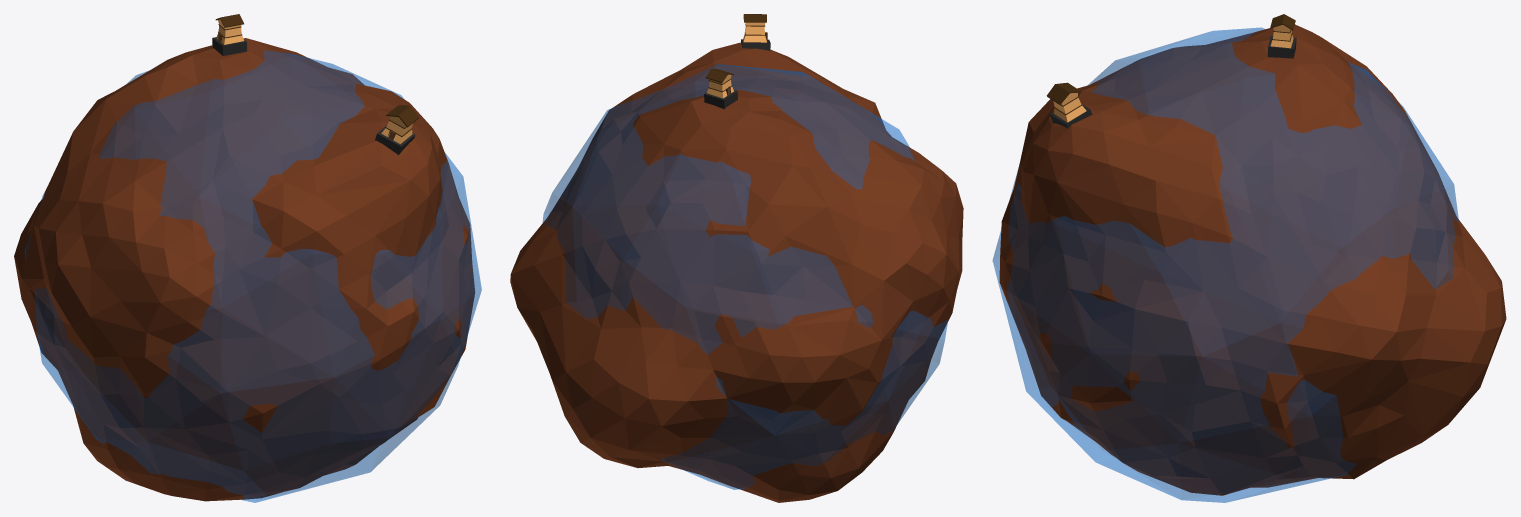
File: cristal-decimated-planet-with-houses.glb
3 renders of one model, left to right at view 1: azimuth 30°, elevation 25°; view 2: azimuth 150°, elevation 25°; view 3: azimuth 270°, elevation 25°, orthographic. The views are drawn at different scales.
Parts seen in each view (by area): view 1: Icosphere, Icosphere.001; view 2: Icosphere, Icosphere.001; view 3: Icosphere, Icosphere.001.
Boxes of the visible parts, x1,y1,x2,y2 form: Icosphere: [14, 14, 475, 501]; Icosphere.001: [24, 50, 481, 502]; Icosphere: [510, 14, 963, 502]; Icosphere.001: [542, 64, 947, 489]; Icosphere: [999, 14, 1506, 495]; Icosphere.001: [992, 27, 1458, 502].
Bounding box in the file's own units: 2.06 × 2.16 × 2.18.
